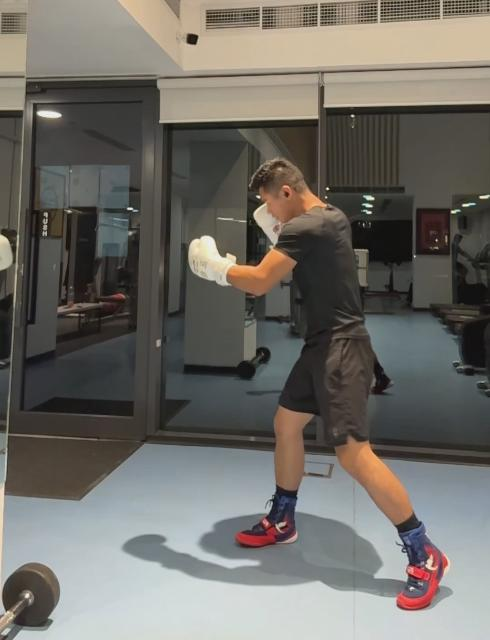punch: (187, 160, 453, 614)
